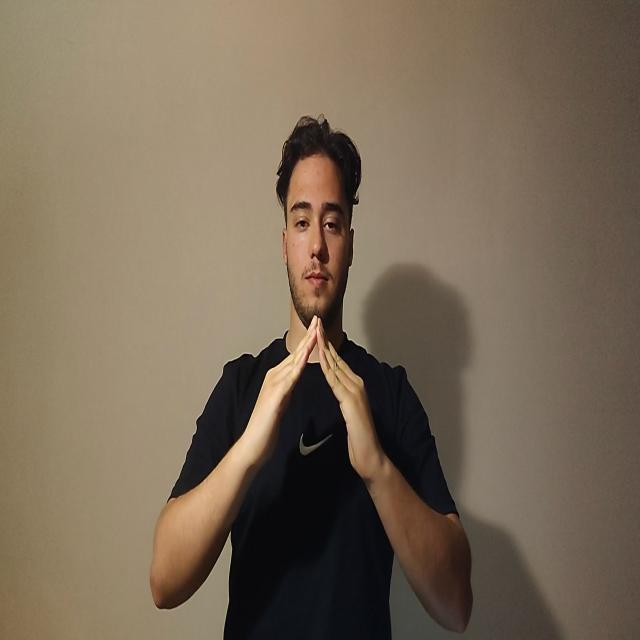house: (242, 314, 380, 490)
